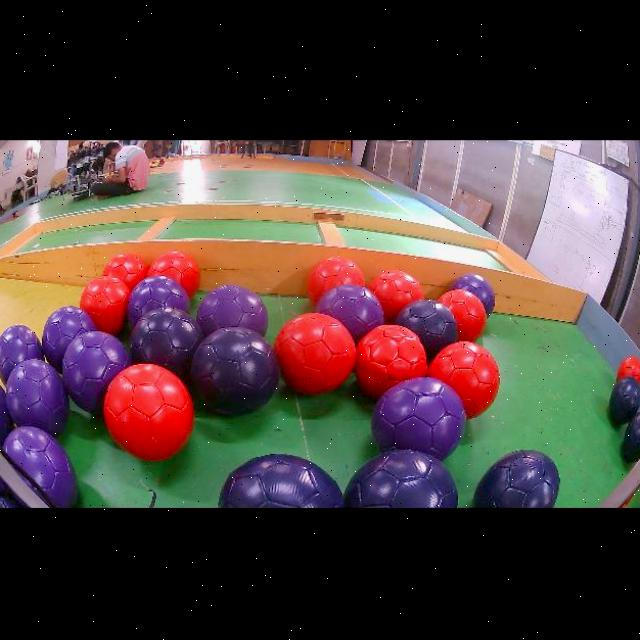B: (191, 327, 280, 415), (218, 455, 344, 508), (344, 450, 459, 508), (130, 308, 203, 378), (473, 450, 559, 508), (396, 300, 457, 363), (609, 377, 640, 425), (622, 412, 640, 462)
P: (370, 377, 466, 461), (4, 427, 78, 508), (62, 331, 131, 414), (6, 359, 69, 437), (315, 285, 384, 345), (197, 285, 268, 337), (42, 306, 97, 373), (126, 276, 190, 327), (0, 324, 44, 385), (451, 273, 496, 318)
R: (103, 364, 194, 461), (275, 313, 356, 395), (428, 342, 499, 419), (355, 326, 428, 400), (80, 276, 130, 335), (306, 257, 365, 306), (369, 271, 424, 323), (438, 290, 487, 342), (148, 252, 200, 299), (103, 253, 148, 291), (617, 356, 640, 384)
